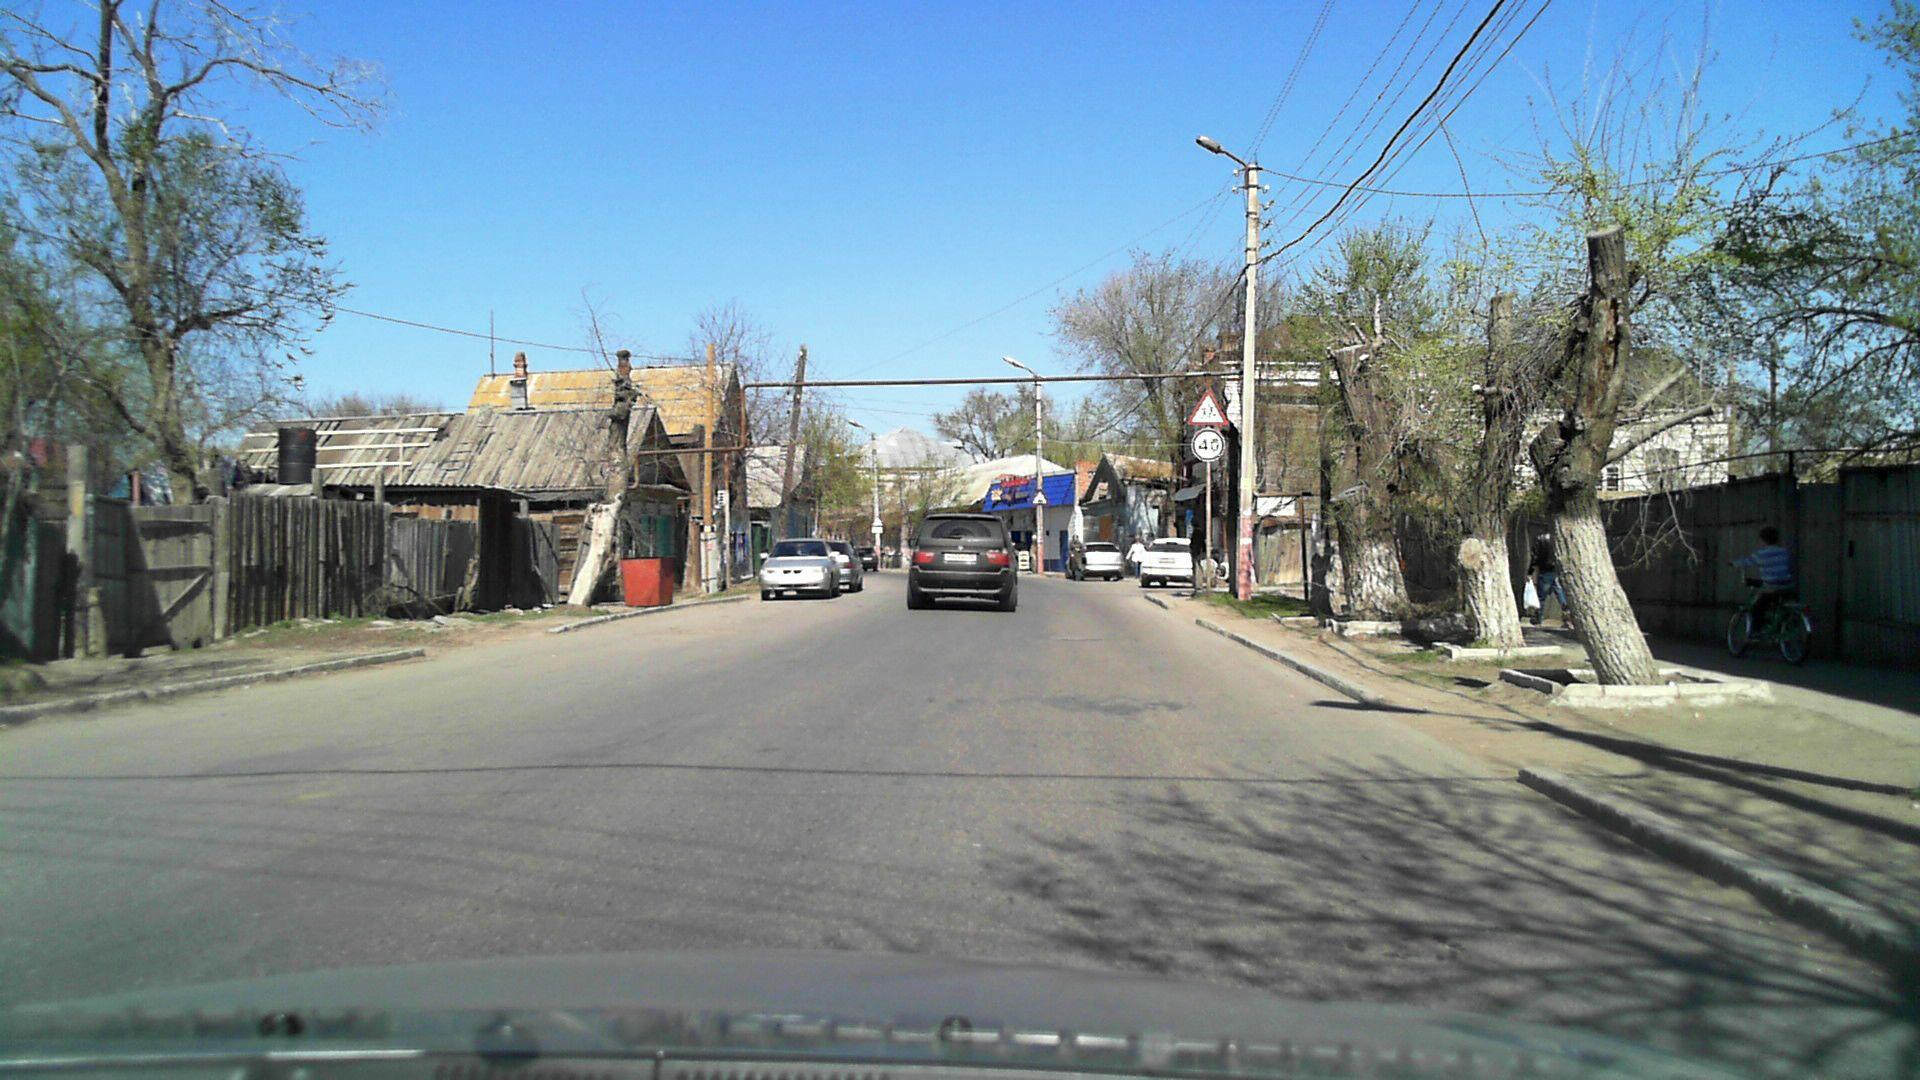1_23: (1187, 388, 1229, 425)
3_24: (1192, 427, 1226, 464)
